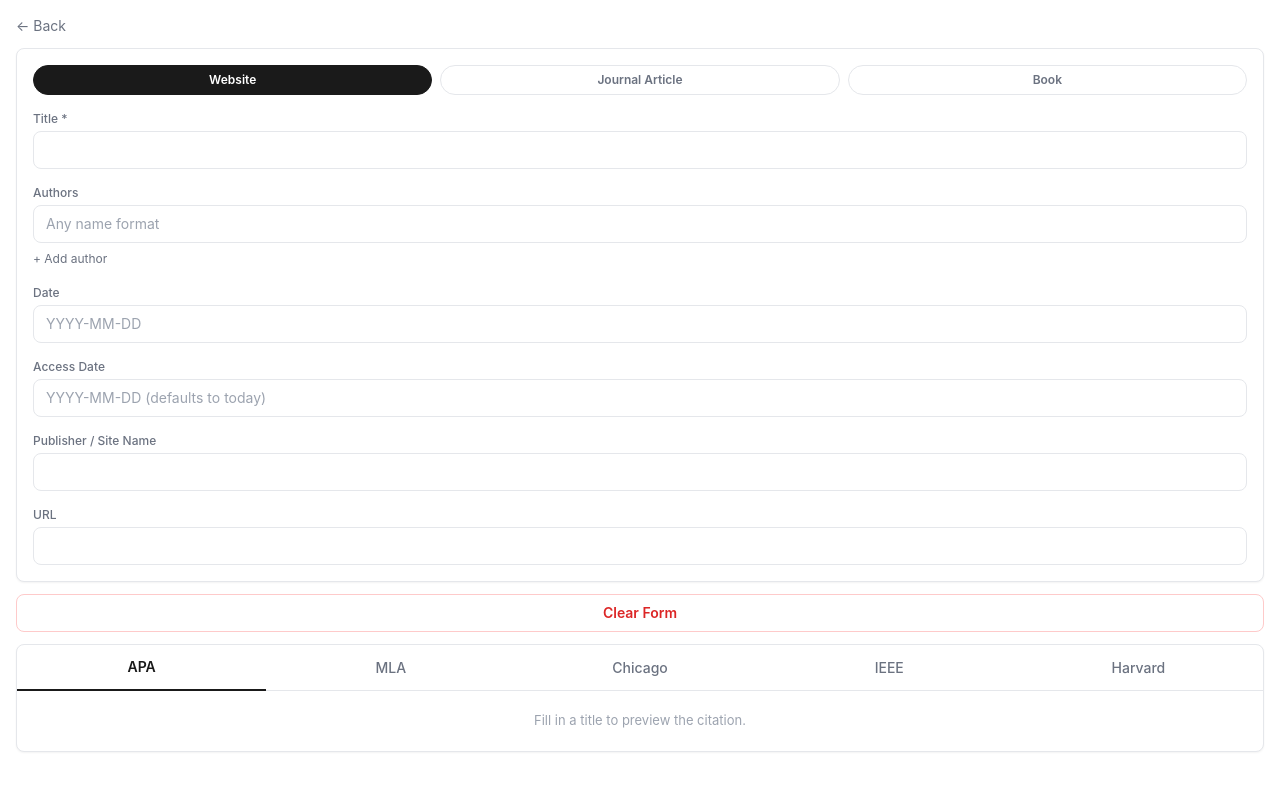
Test: ManualEntryForm — author add and remove › removes an author input when × is clicked
The image size is (1280, 800).
Click the button "+ Add author" at (70, 259), box [33, 251, 107, 267]
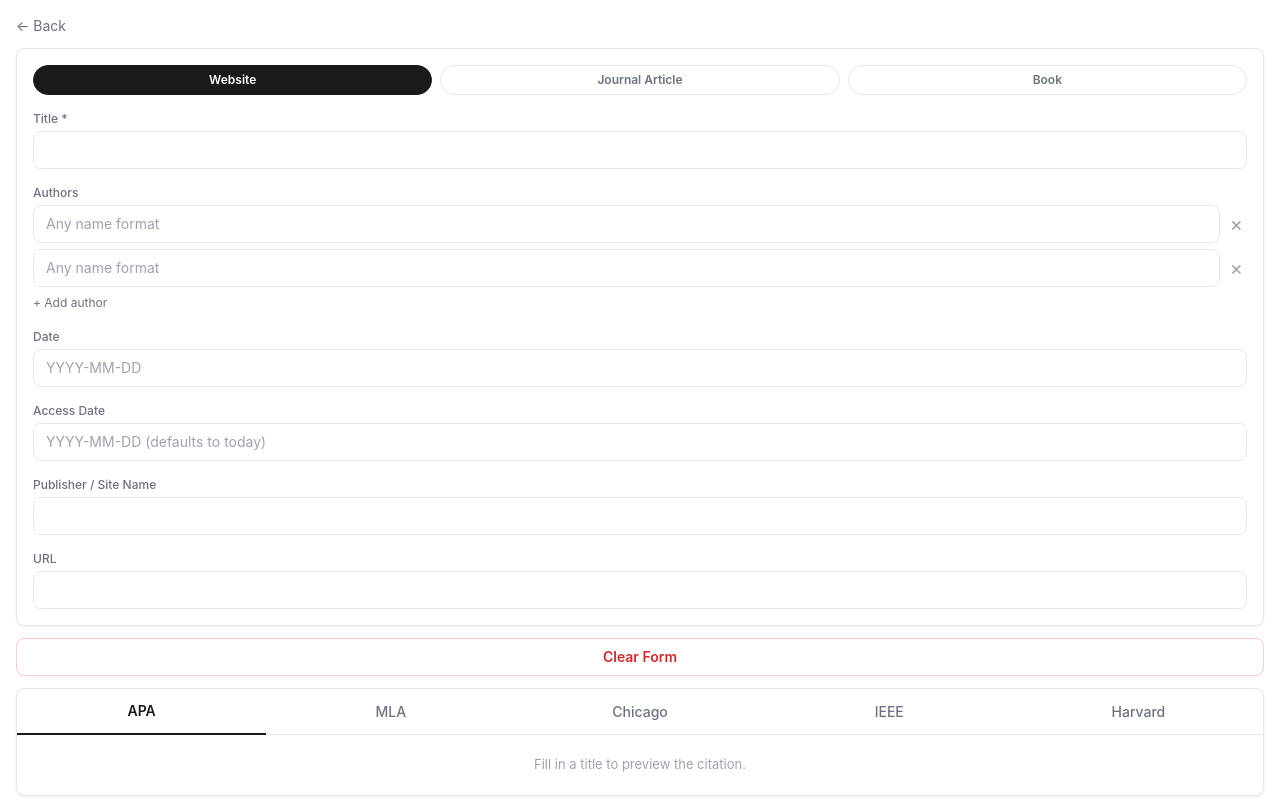
Click the button named "Remove author" at (1236, 268), box [1226, 258, 1247, 278]
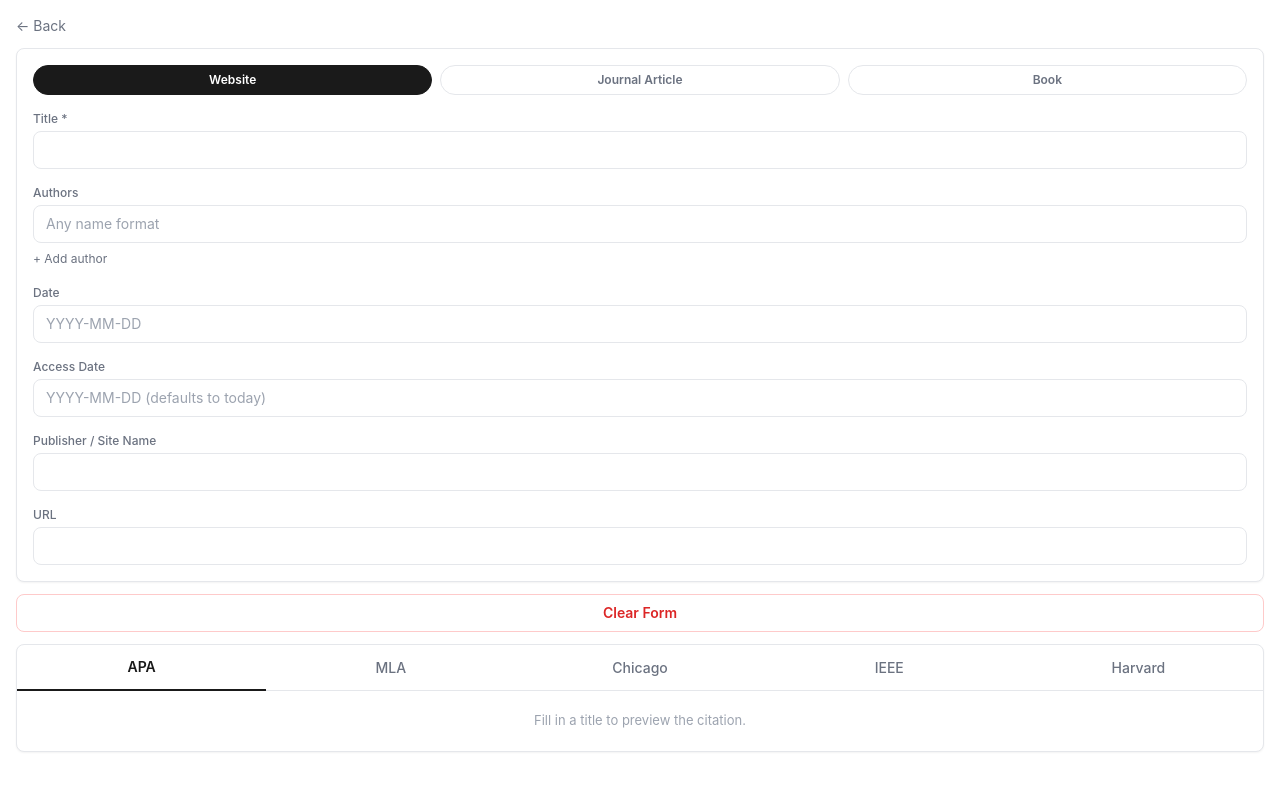
Expected: the number of fields with placeholder "Any name format" is 1, [33, 205, 1247, 243]
